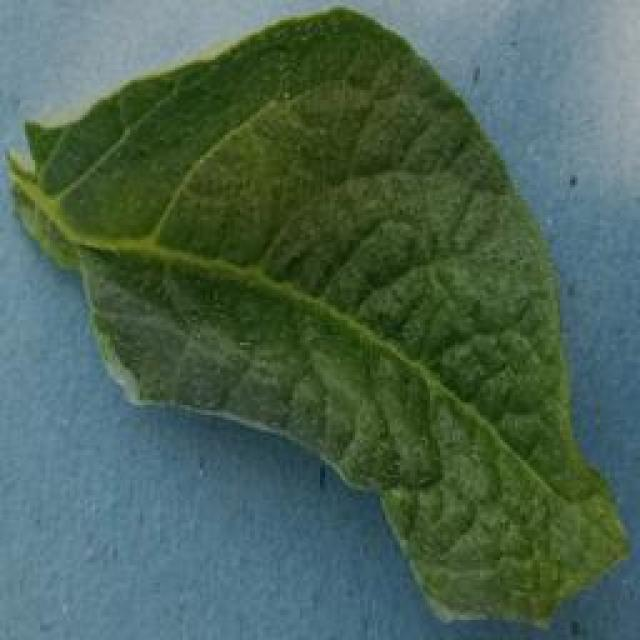Potato_Healthy: (8, 11, 619, 627)
